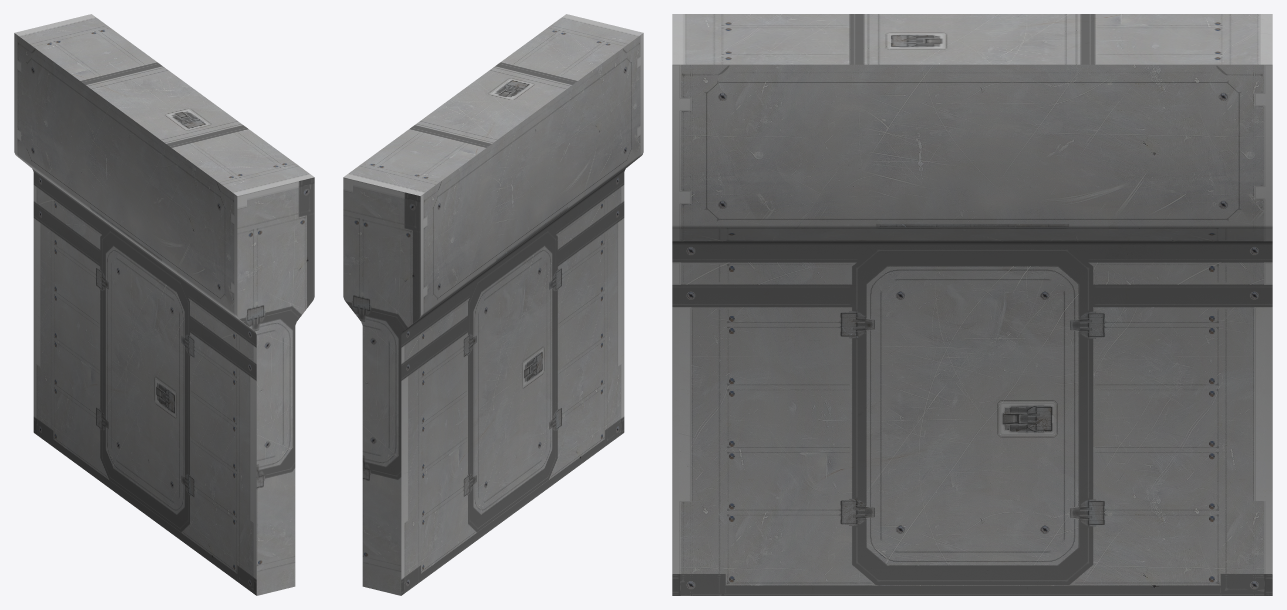
The model's file is SM_Walltype2b.fbx.
3 views of the same model, side by side, from view 1: azimuth 30°, elevation 25°; view 2: azimuth 150°, elevation 25°; view 3: azimuth 270°, elevation 25° (orthographic). The views are drawn at different scales.
Parts seen in each view (by area): view 1: SM_Walltype2b_LOD0; view 2: SM_Walltype2b_LOD0; view 3: SM_Walltype2b_LOD0.
Part boxes in pixels (left/top/right/bottom): SM_Walltype2b_LOD0: left=14, top=14, right=314, bottom=595; SM_Walltype2b_LOD0: left=343, top=14, right=643, bottom=595; SM_Walltype2b_LOD0: left=672, top=14, right=1272, bottom=595.
Size of the model in its own units: 80 by 400 by 400.
1 material, 1 textured.
